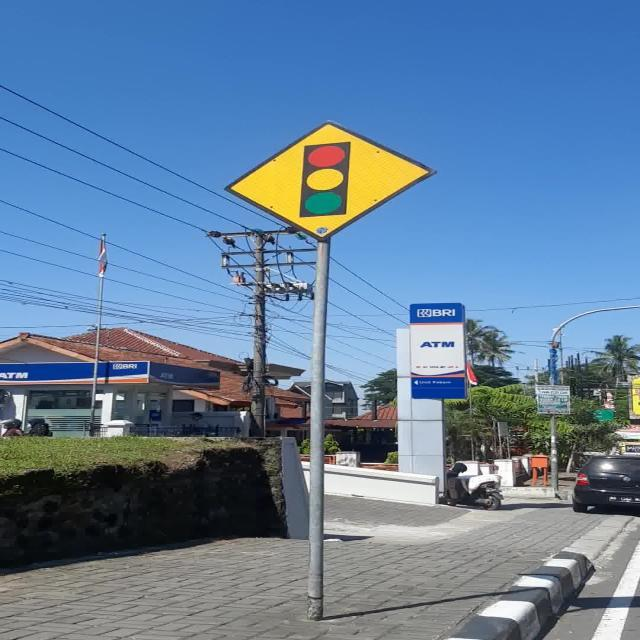Lampu Lalu Lintas: (222, 120, 438, 242)
